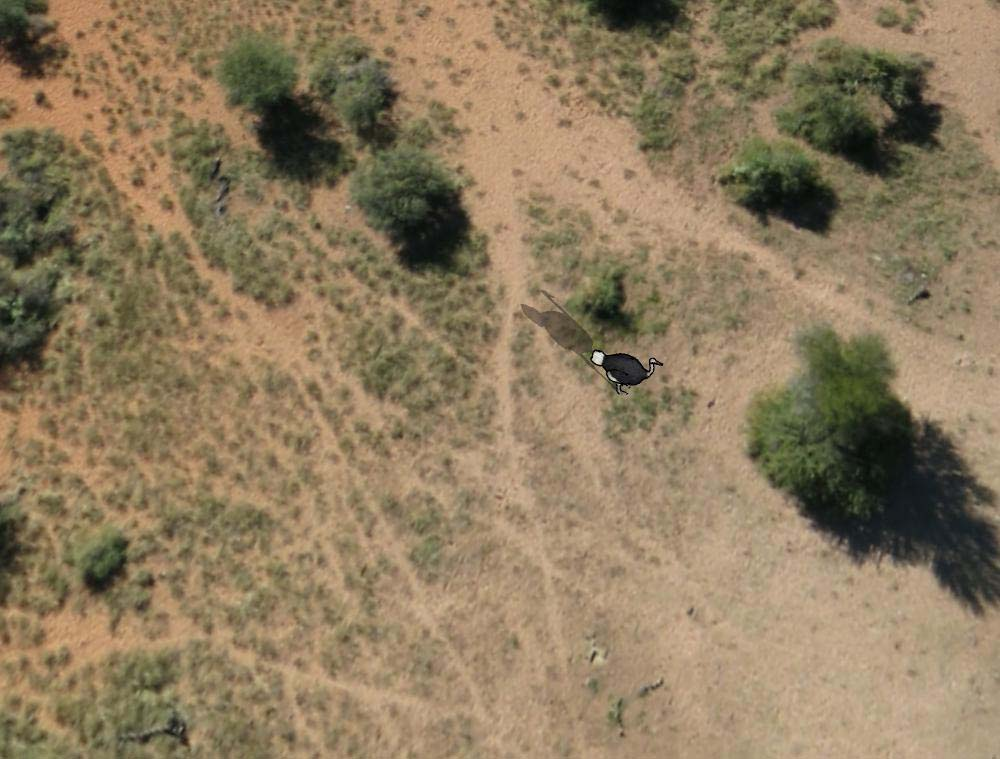ostrich: (590, 347, 668, 396)
